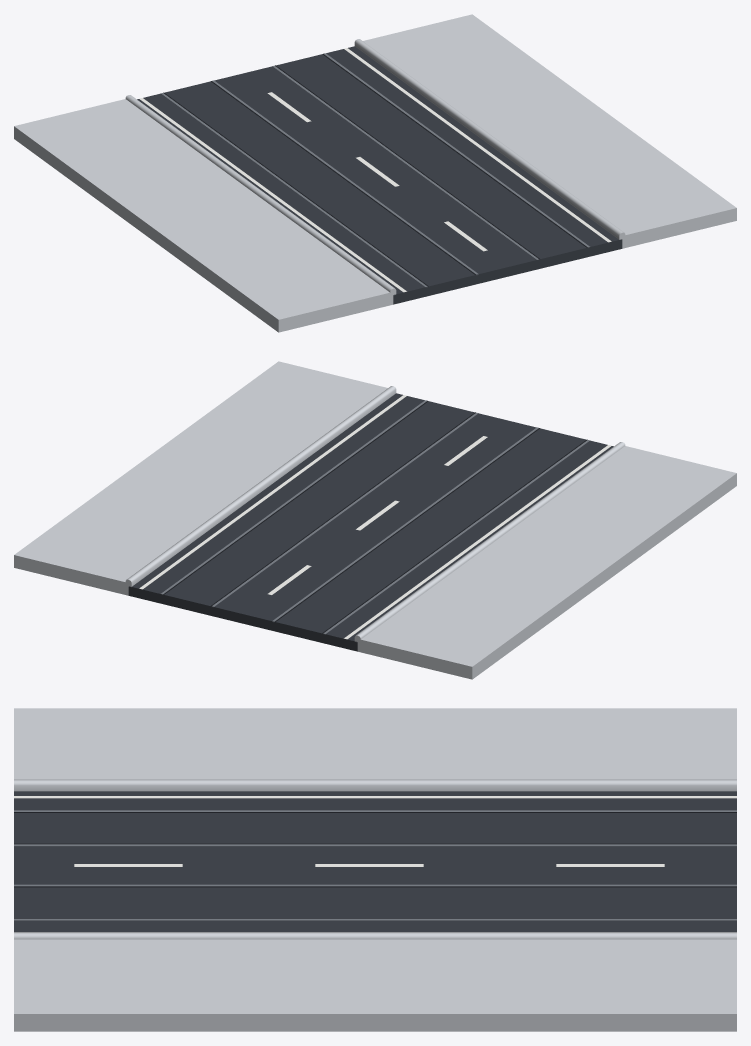
File: bonde_rua.glb
3 views of the same model, one above another, from view 1: azimuth 30°, elevation 25°; view 2: azimuth 150°, elevation 25°; view 3: azimuth 270°, elevation 25° (orthographic). The views are drawn at different scales.
Visible parts, largest first — view 1: bonde_rua; view 2: bonde_rua; view 3: bonde_rua.
Boxes of the visible parts, x1,y1,x2,y2 form: bonde_rua: (14, 14, 736, 332); bonde_rua: (14, 361, 736, 679); bonde_rua: (14, 708, 736, 1031).
Size of the model in its own units: 15 by 0.5 by 15.
1 material, 1 textured.
